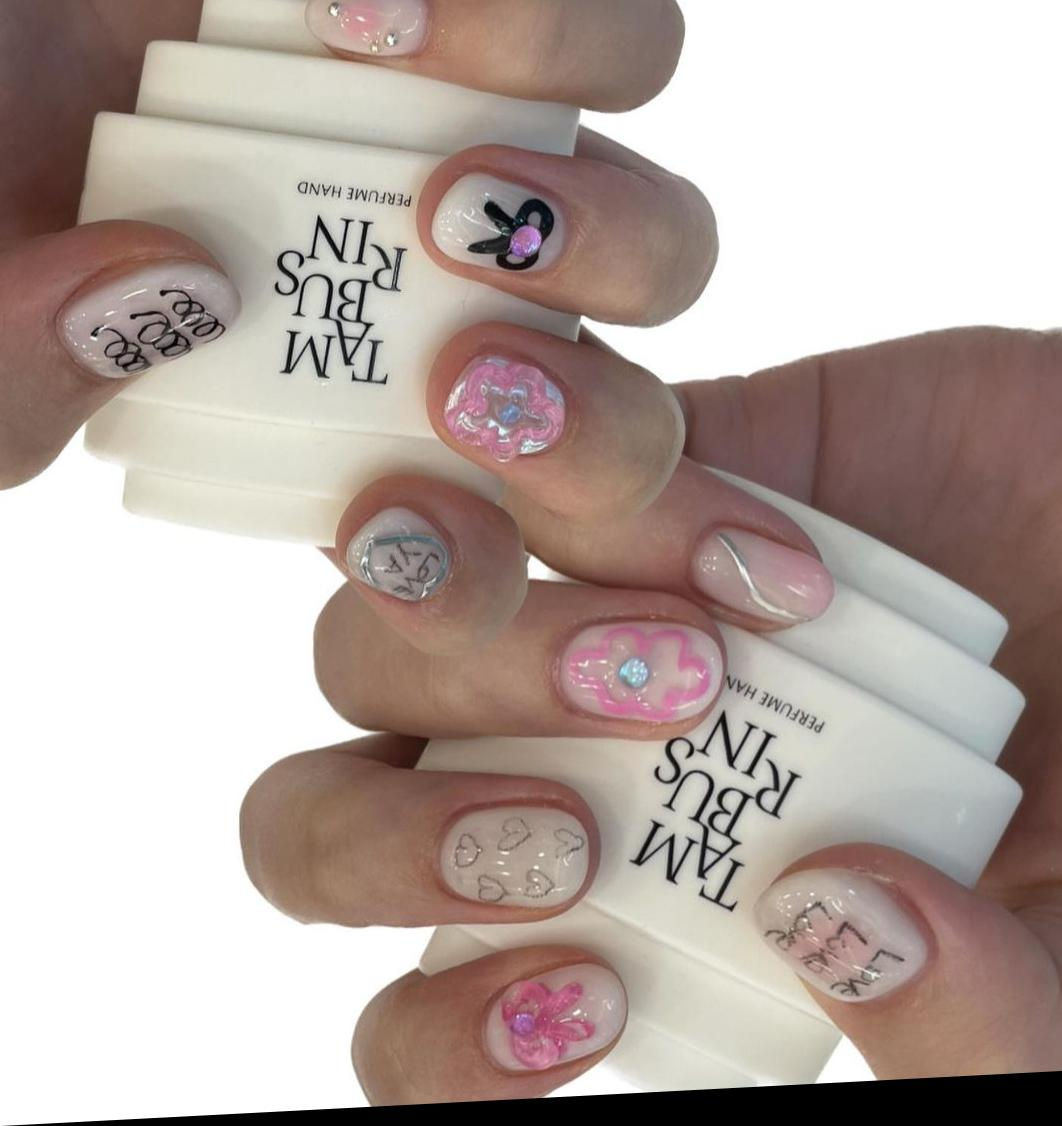nail: (55, 253, 243, 386), (756, 868, 926, 1001), (552, 611, 727, 732), (689, 518, 836, 637), (485, 962, 627, 1070), (441, 806, 589, 908), (445, 355, 568, 463), (433, 173, 566, 271), (347, 507, 453, 601), (305, 0, 435, 65)
